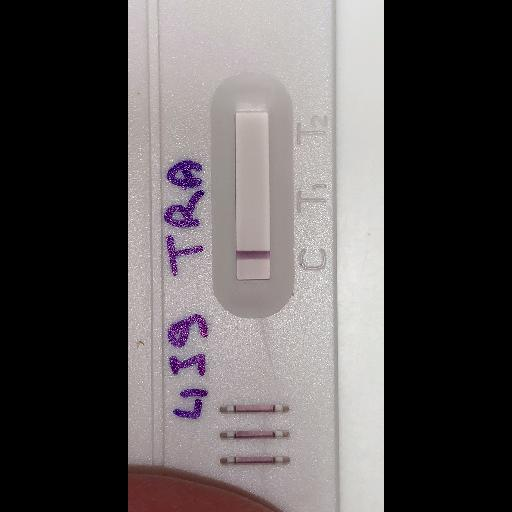Neg: (127, 0, 339, 511)
